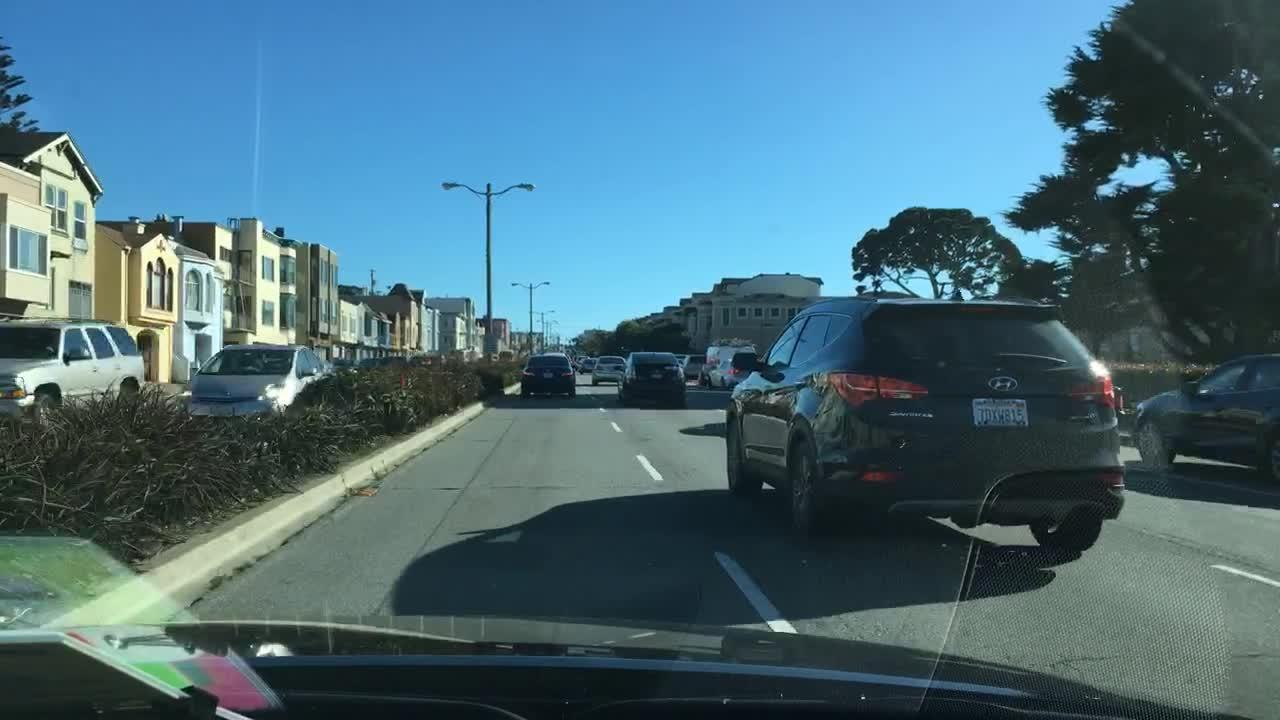Hyundai: (982, 369, 1025, 398)
